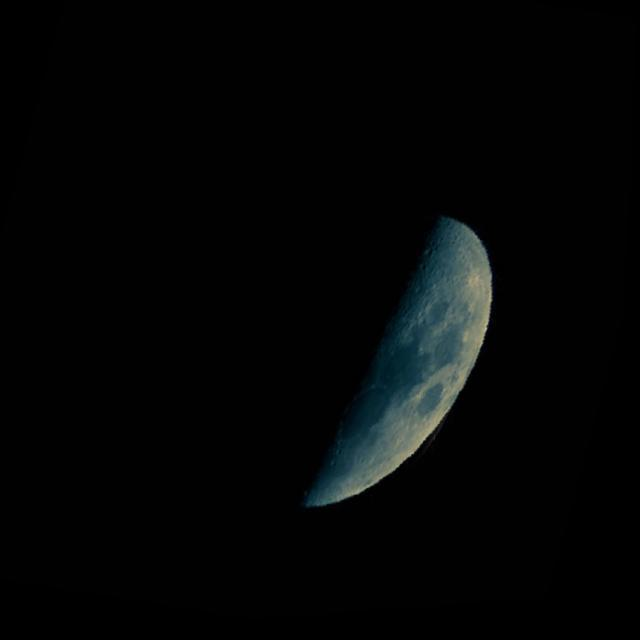moon: (204, 182, 525, 594)
